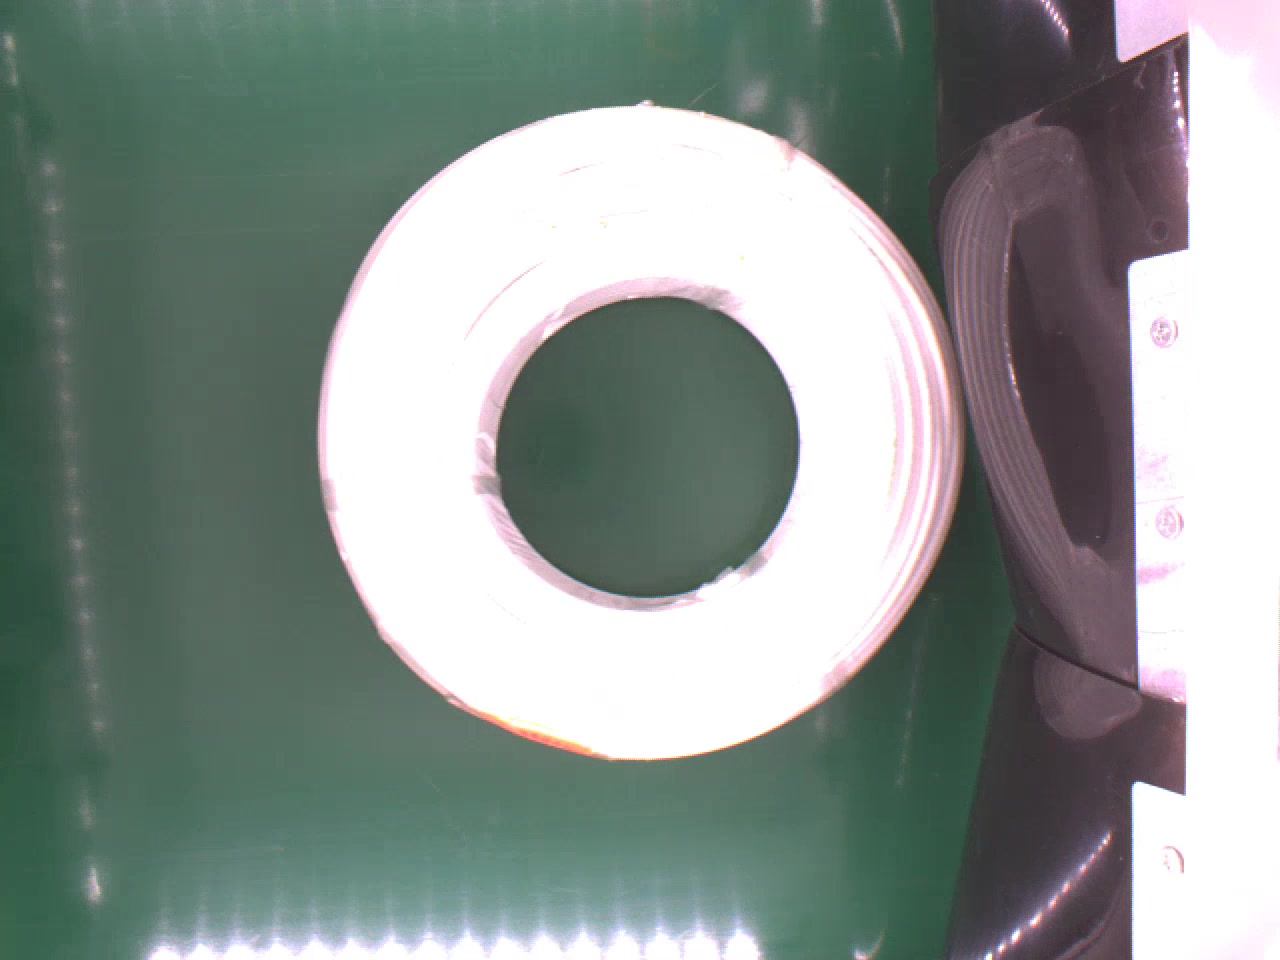white: (315, 95, 980, 781)
